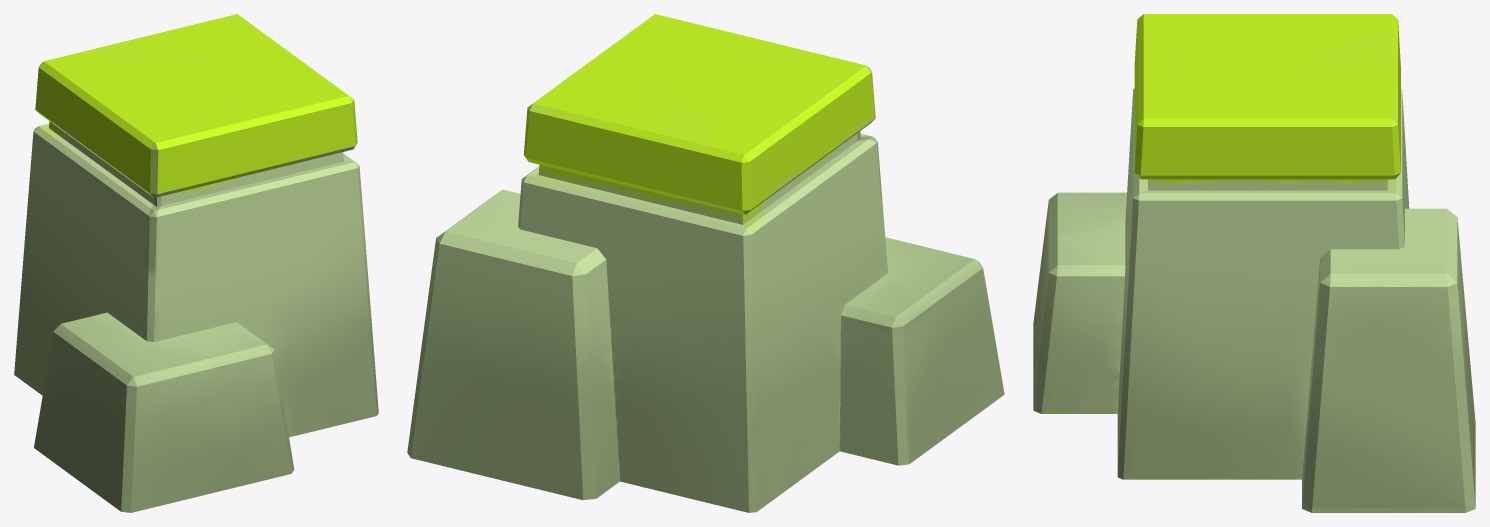
Rendered from rocks 3.fbx.
3 renders of one model, left to right at view 1: azimuth 30°, elevation 25°; view 2: azimuth 150°, elevation 25°; view 3: azimuth 270°, elevation 25°, orthographic. The views are drawn at different scales.
Visible parts, largest first — view 1: Cube.001; view 2: Cube.001; view 3: Cube.001.
Boxes of the visible parts, box(x1,y1,x2,y2) form: Cube.001: box(14, 14, 378, 512); Cube.001: box(407, 14, 1004, 512); Cube.001: box(1033, 14, 1475, 512).
Bounding box in the file's own units: 173 × 146 × 168.
